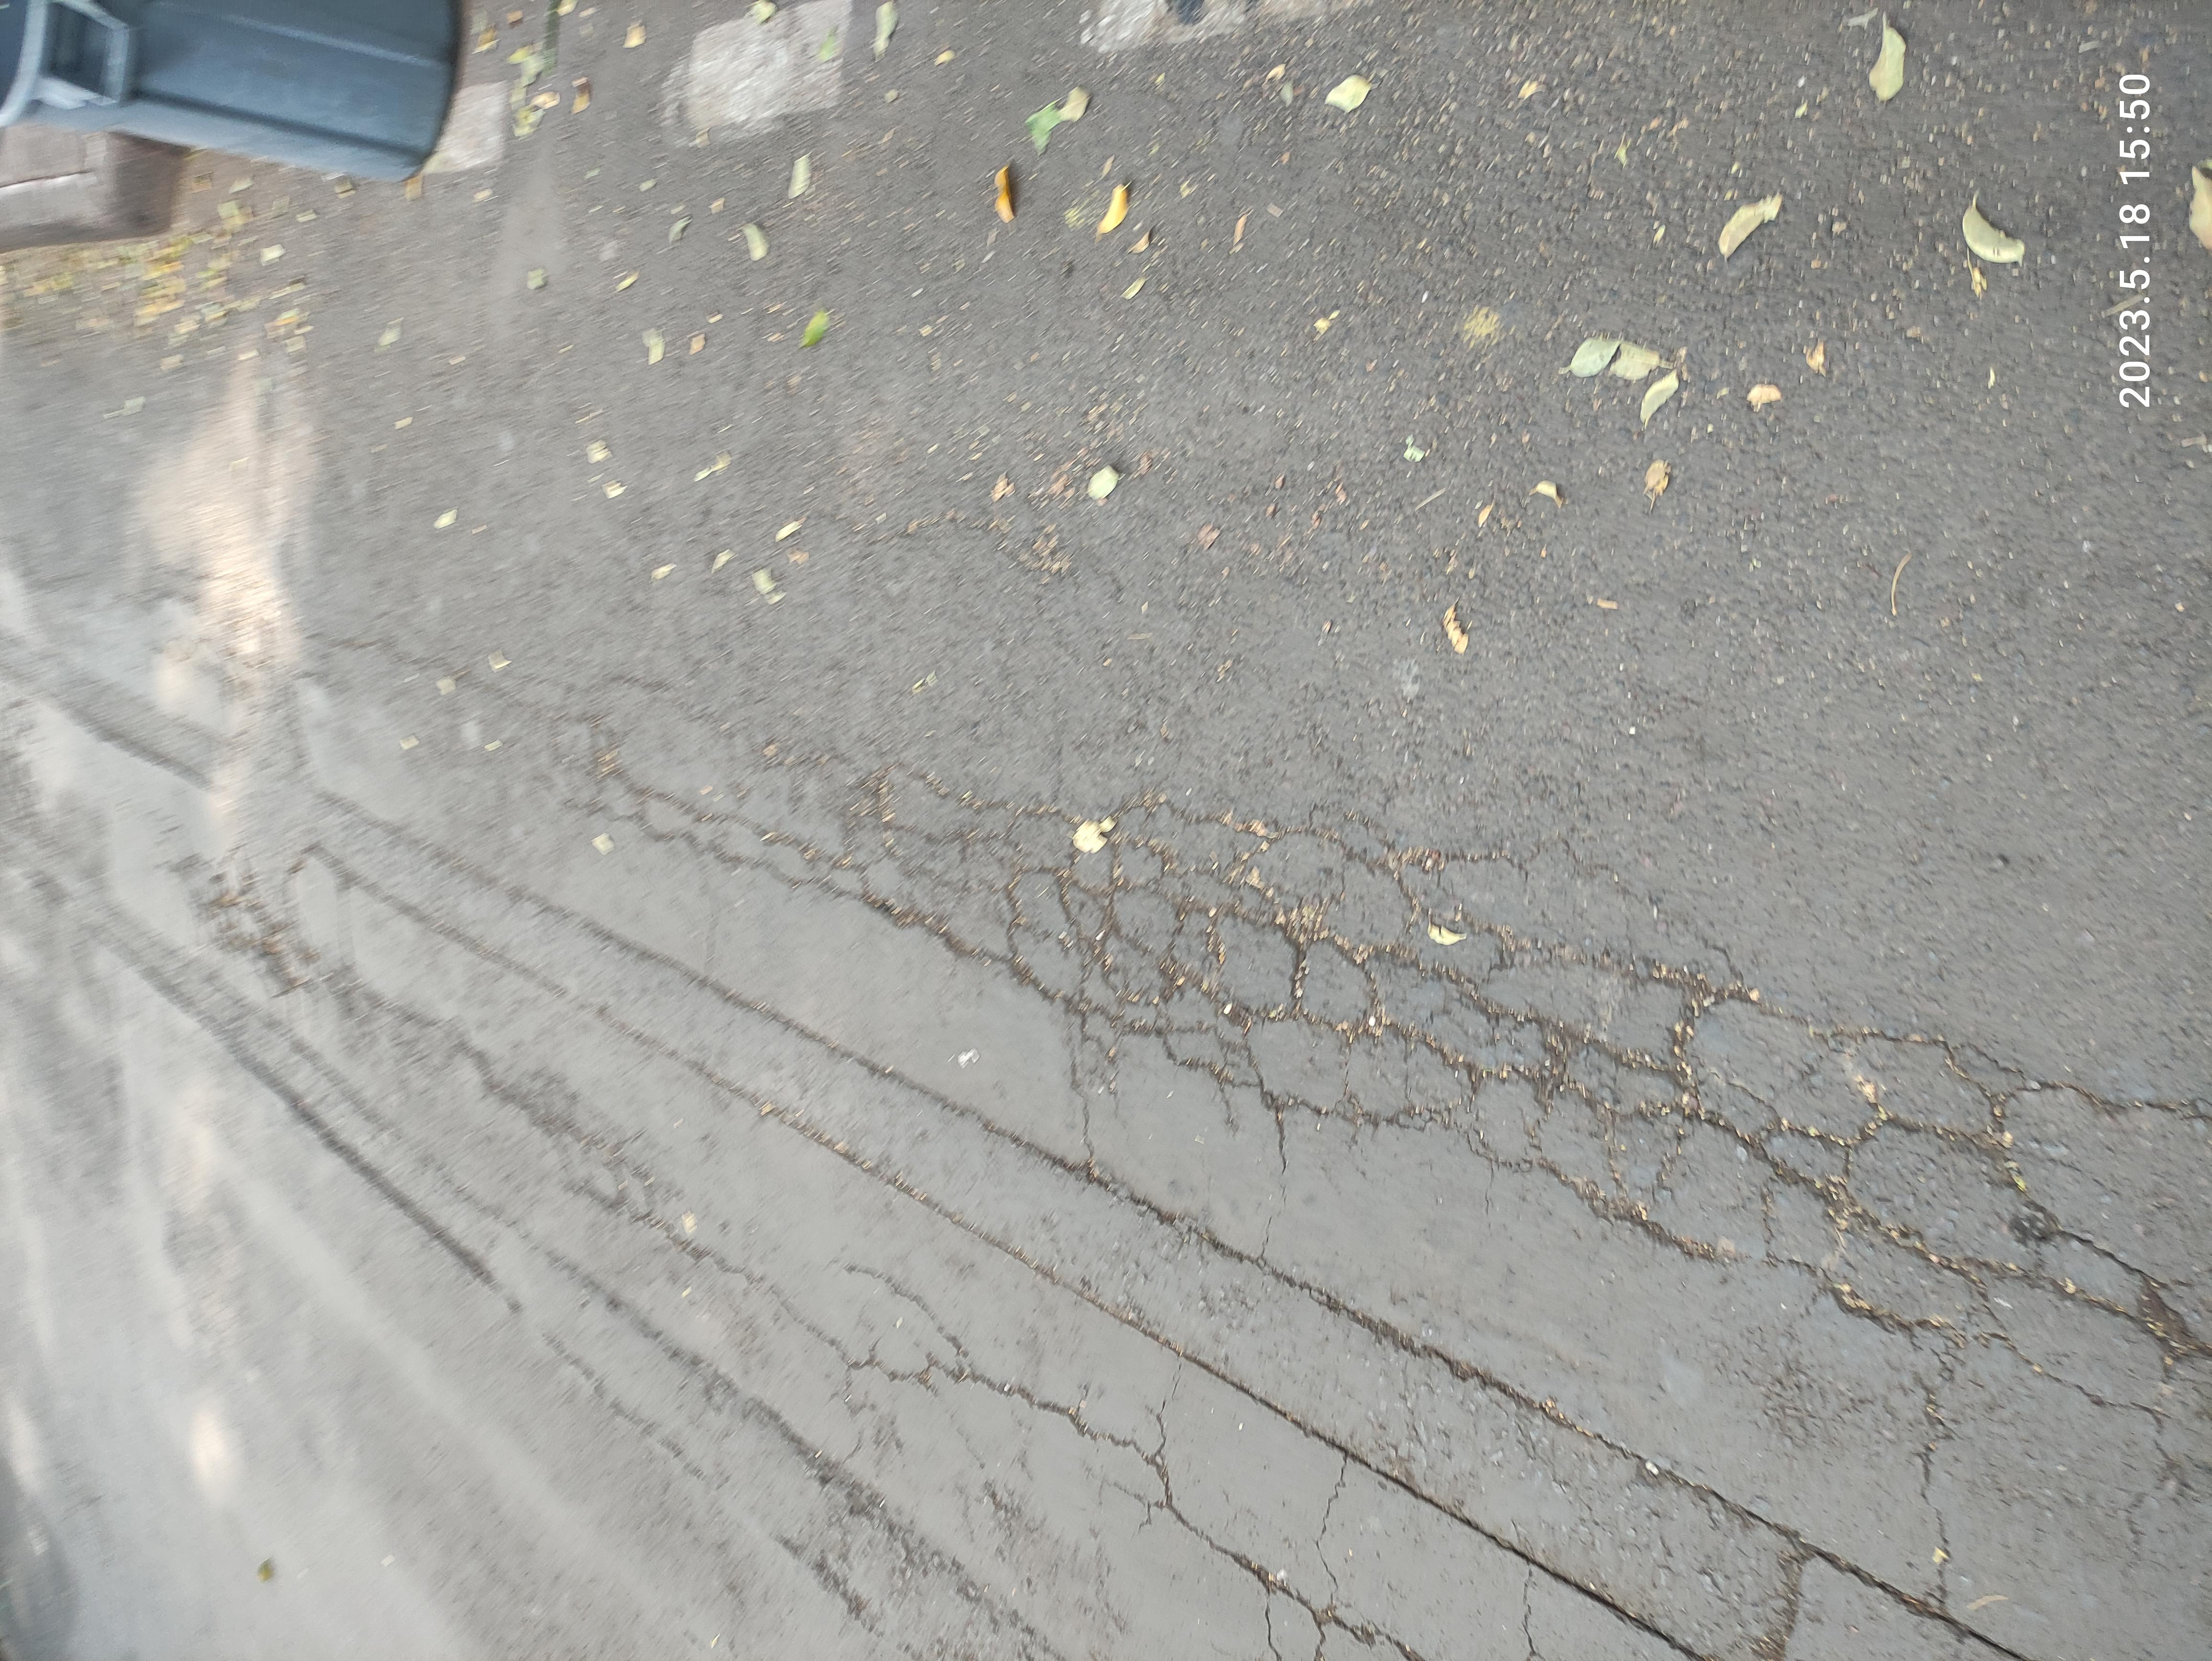alligator-crack: (393, 398, 1354, 1661)
